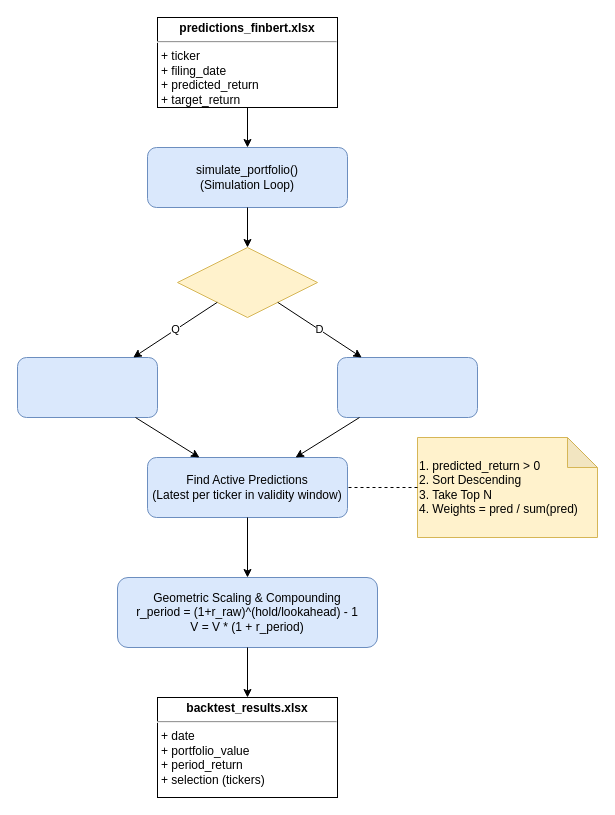
The diagram is 615 pixels wide and 815 high, and some of its shapes have lost their labels. Here are the shapes that lost their labels. From the top down, the centre of each, then its label:
At point (247, 282): "Frequency?".
At point (87, 387): "Quarterly ('Q') Rebalance at Quarter Start".
At point (407, 387): "Interval ('D') Rebalance every N days".
